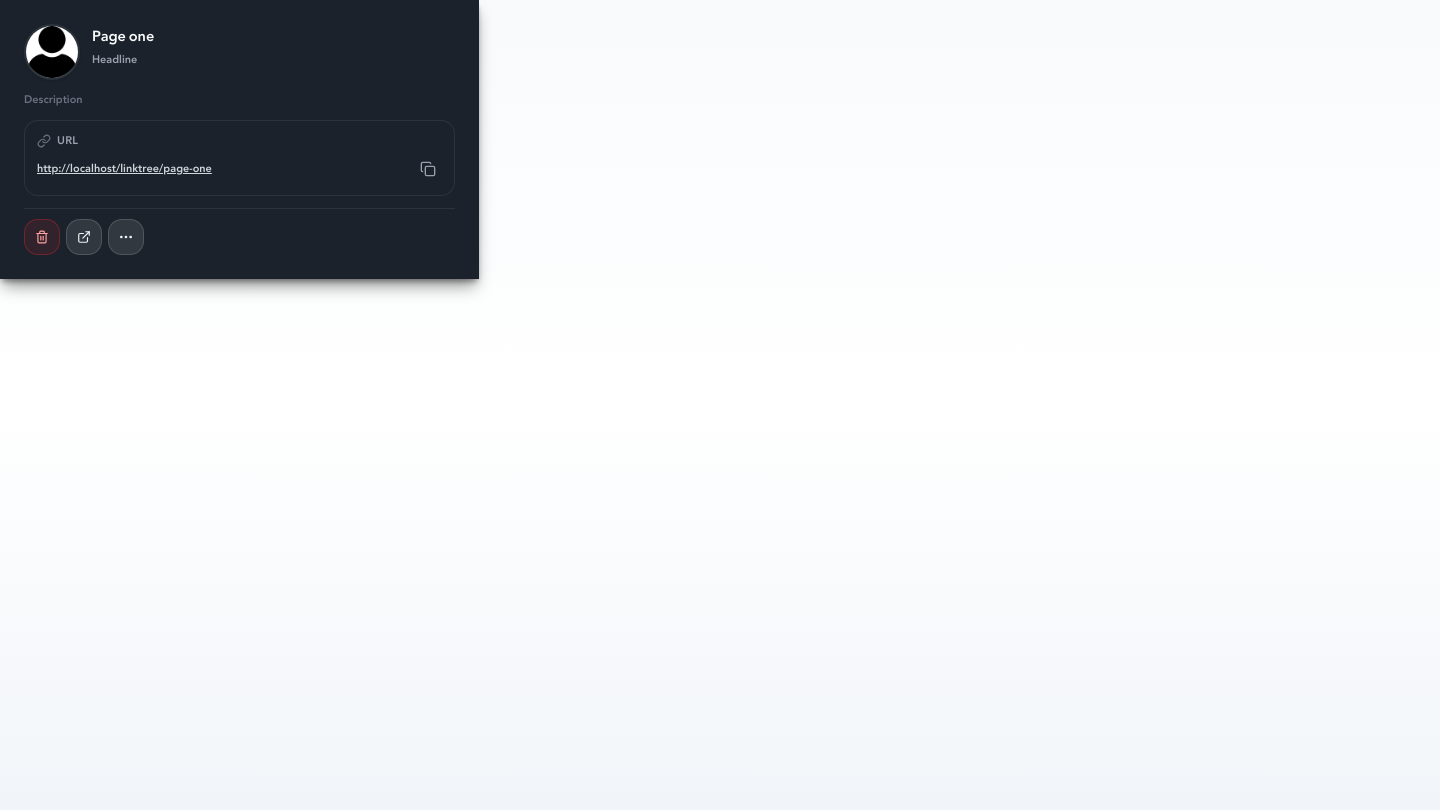
Test case: LinktreesGrid shared public-page presentation › opens the campaign profit dialog in Arabic for Business
This screenshot has width=1440, height=810.
Click the button named "المزيد من الإجراءات".
click(126, 237)  # box [108,219,144,255]
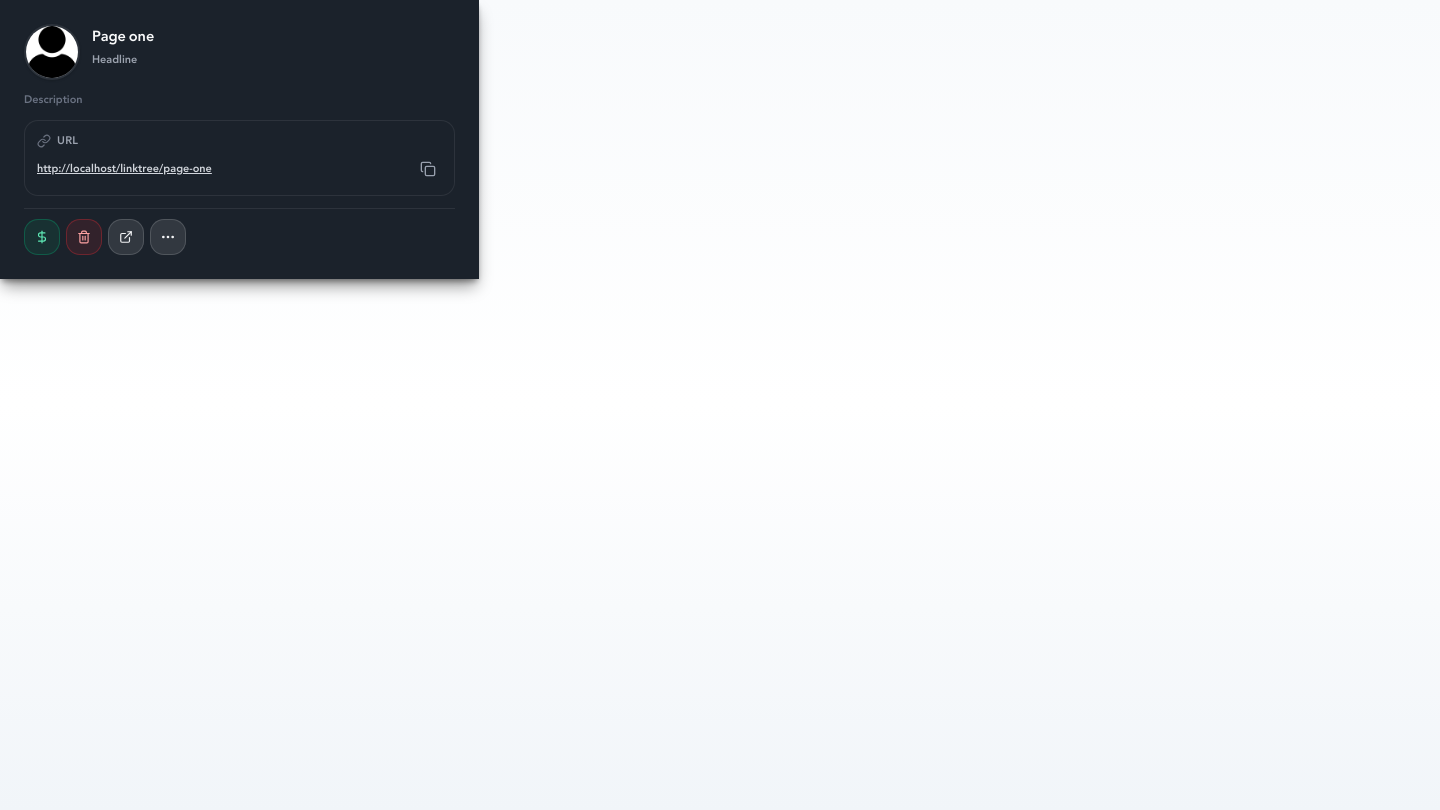
Click the button named "الأرباح".
click(42, 237)  # box [24,219,60,255]
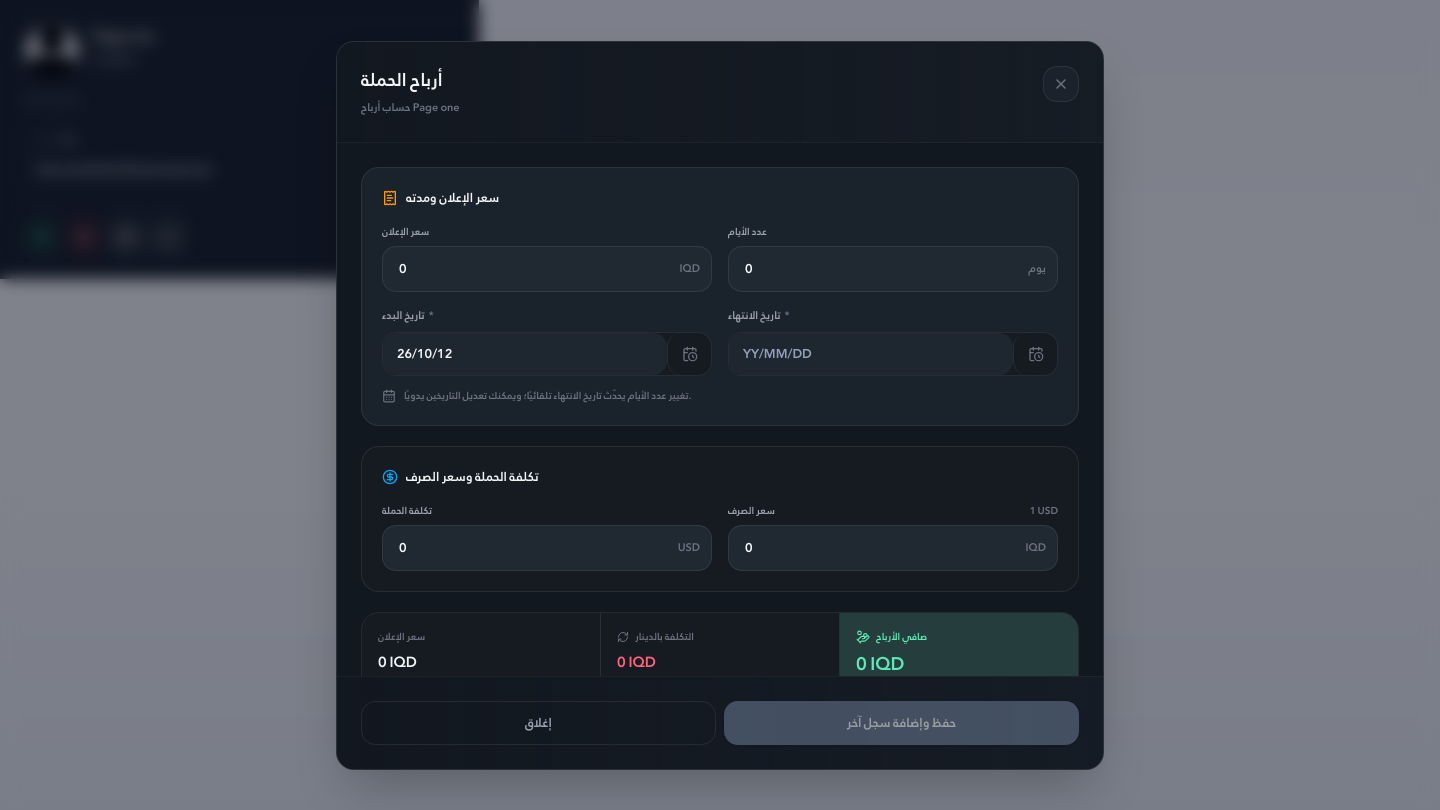
Now the dialog "أرباح الحملة" is shown, box [336,40,1104,770]
Now the number field named "سعر الإعلان بالدينار العراقي" is shown, box [382,246,712,292]
